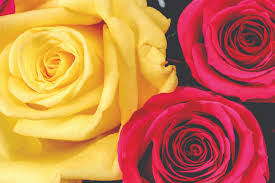lale: (0, 0, 148, 183), (122, 87, 264, 183), (166, 0, 275, 111)
